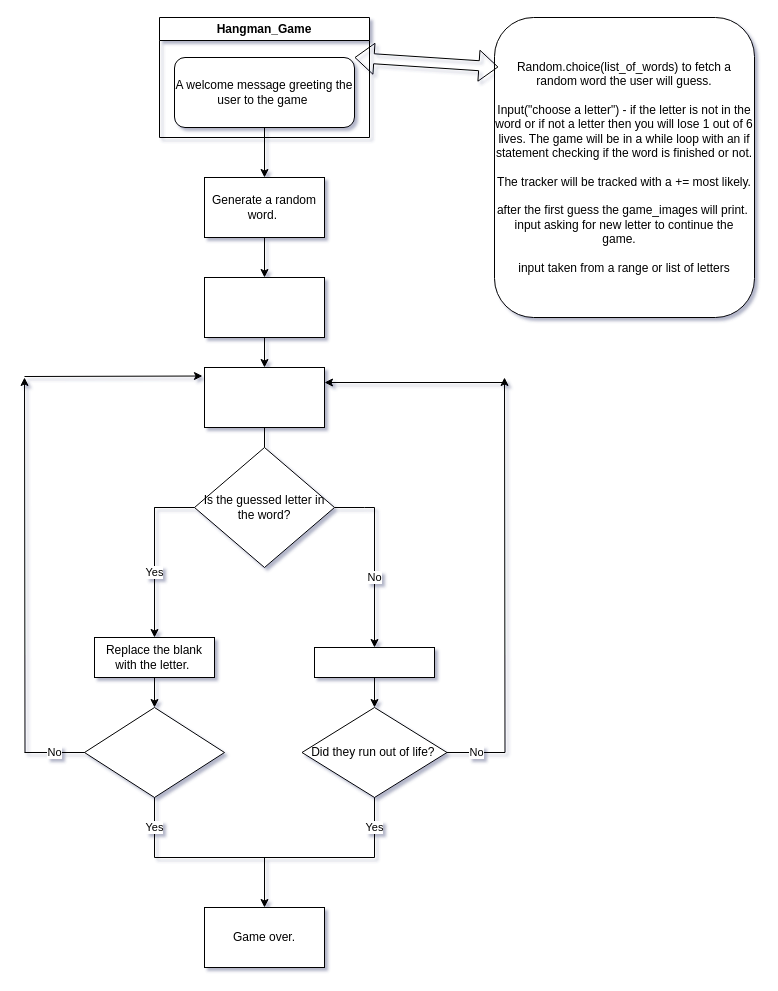
This 778x991 diagram has some shape labels left out. The centre of each missing label's shape, as x and y in pixels:
"Are all the blanks filled?" goes at (154,752).
"Ask the user to guess a letter." goes at (264,397).
"Generate as many empty spaces as letters in the random word." goes at (264,307).
"lose a life." goes at (374,662).
